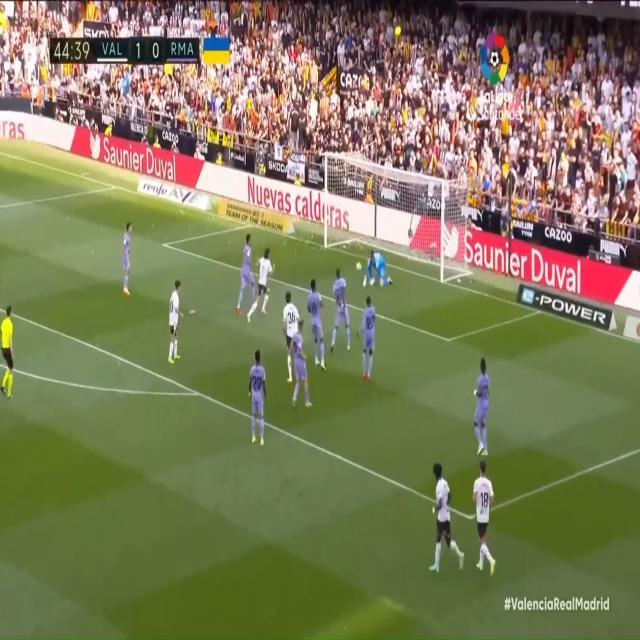ball: (353, 260, 363, 276)
goalkeeper: (367, 249, 398, 297)
player: (429, 460, 469, 580), (243, 339, 283, 442), (472, 451, 501, 588), (245, 247, 281, 330), (470, 353, 494, 471), (162, 272, 188, 375), (281, 274, 304, 390), (357, 290, 385, 384), (330, 263, 354, 357), (307, 276, 329, 377), (291, 321, 314, 417), (119, 205, 138, 306), (239, 231, 256, 323)
referee: (0, 294, 25, 410)
